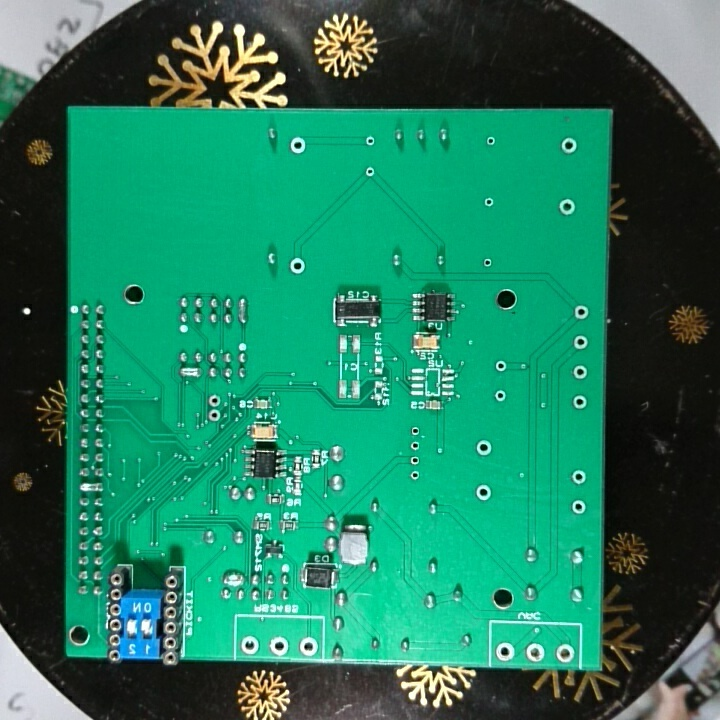F: (494, 641, 518, 665), (553, 642, 576, 666), (297, 635, 320, 658), (267, 635, 291, 657), (556, 196, 578, 218), (524, 641, 546, 663), (287, 255, 308, 278), (571, 301, 592, 324), (287, 135, 308, 157), (558, 136, 580, 157), (474, 483, 494, 506), (474, 436, 494, 458), (570, 332, 591, 352), (570, 466, 588, 489), (239, 635, 259, 655), (569, 496, 588, 517), (571, 362, 589, 383), (571, 392, 589, 411), (205, 407, 224, 425), (493, 358, 510, 375), (492, 386, 508, 404), (206, 392, 222, 409), (408, 423, 424, 439), (362, 164, 379, 179), (482, 195, 497, 212), (479, 255, 496, 270), (408, 466, 422, 483), (408, 454, 422, 469), (364, 134, 377, 149), (484, 134, 497, 149), (408, 439, 422, 452)
P: (235, 293, 250, 329), (177, 363, 204, 383), (220, 569, 247, 588), (77, 479, 105, 495)
